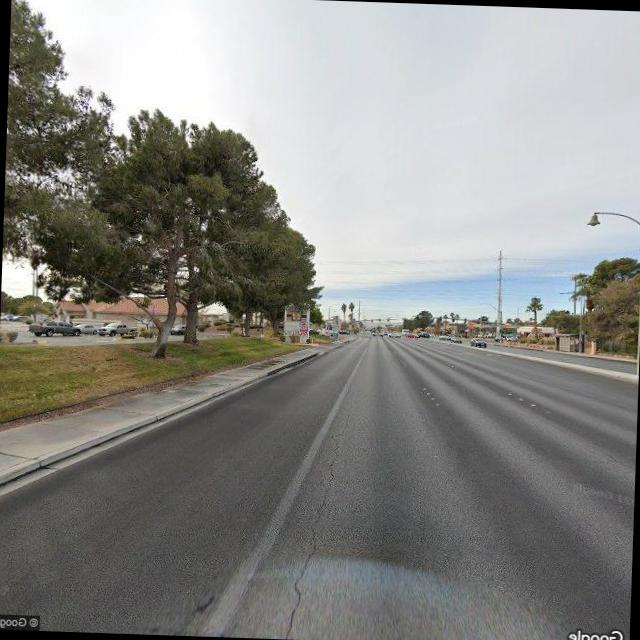crack: (282, 410, 350, 639)
